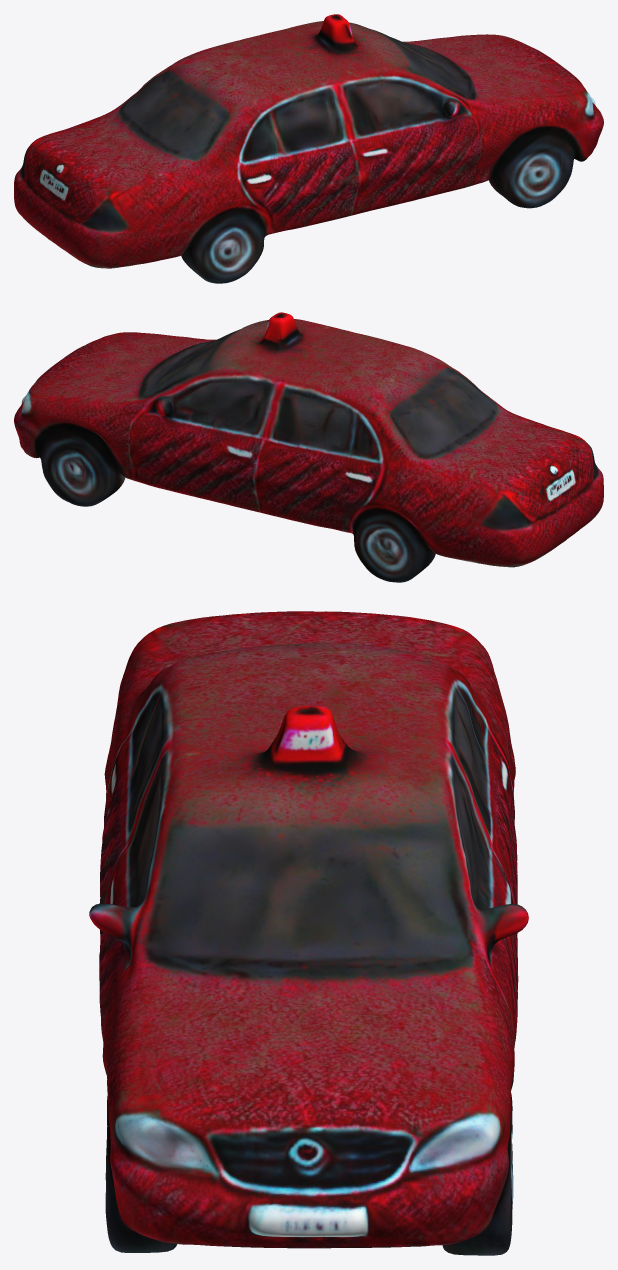
File: autonomus.glb
The picture shows the model from 3 angles, top to bottom: view 1: azimuth 30°, elevation 25°; view 2: azimuth 150°, elevation 25°; view 3: azimuth 270°, elevation 25°; orthographic projection. The views are drawn at different scales.
Parts seen in each view (by area): view 1: high_poly; view 2: high_poly; view 3: high_poly.
Part boxes in pixels (left/top/right/bottom): high_poly: left=14, top=14, right=603, bottom=283; high_poly: left=14, top=312, right=603, bottom=582; high_poly: left=89, top=611, right=528, bottom=1255.
Bounding box in the file's own units: 1 × 0.3415 × 0.3532.
1 material, 1 textured.
